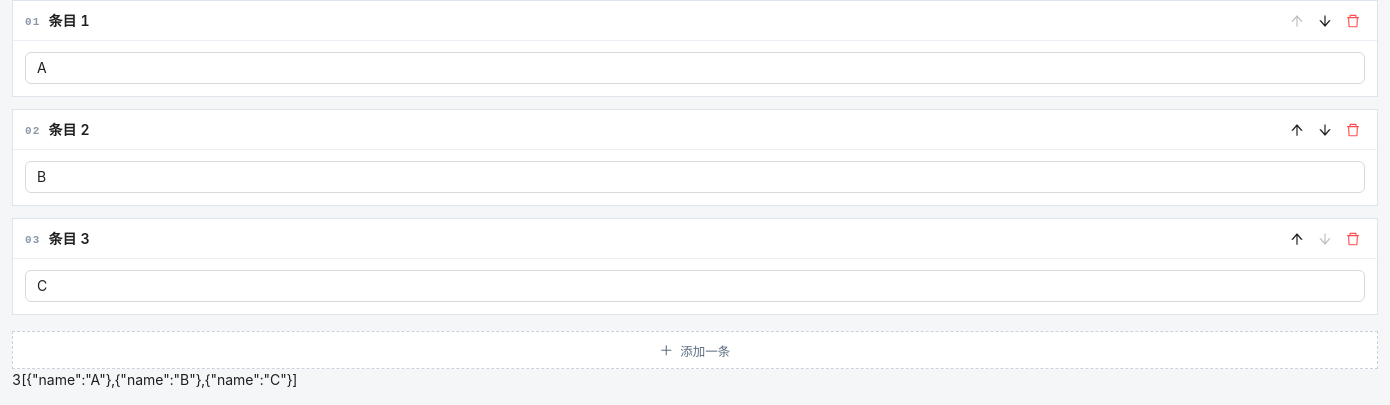
Test case: ArrayEditor › 支持上下移动排序，边界按钮禁用
expect the button named "上移第 1 条" is disabled: met, box x1=1285 y1=8 x2=1309 y2=32
expect the button named "下移第 3 条" is disabled: met, box x1=1313 y1=226 x2=1337 y2=250
Click the button named "下移第 1 条".
click(1325, 20)  # box x1=1313 y1=8 x2=1337 y2=32
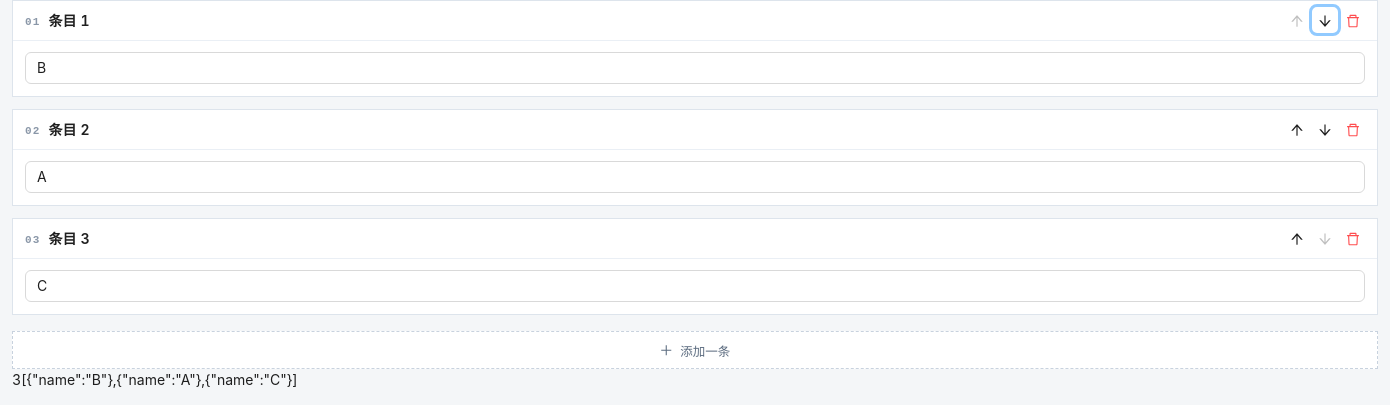
expect the text with test id "snapshot" reads "[{\"name\":\"B\"},{\"name\":\"A\"},{\"name\":\"C\"}]": met, box x1=21 y1=371 x2=298 y2=388
Click the button named "上移第 3 条".
click(1297, 238)  # box x1=1285 y1=226 x2=1309 y2=250
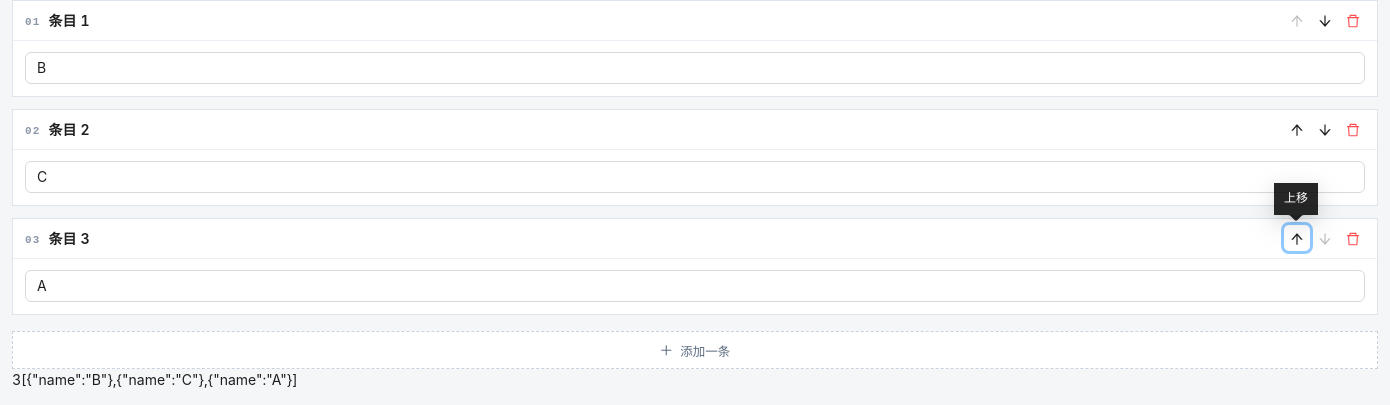
expect the text with test id "snapshot" reads "[{\"name\":\"B\"},{\"name\":\"C\"},{\"name\":\"A\"}]": met, box x1=21 y1=371 x2=298 y2=388
